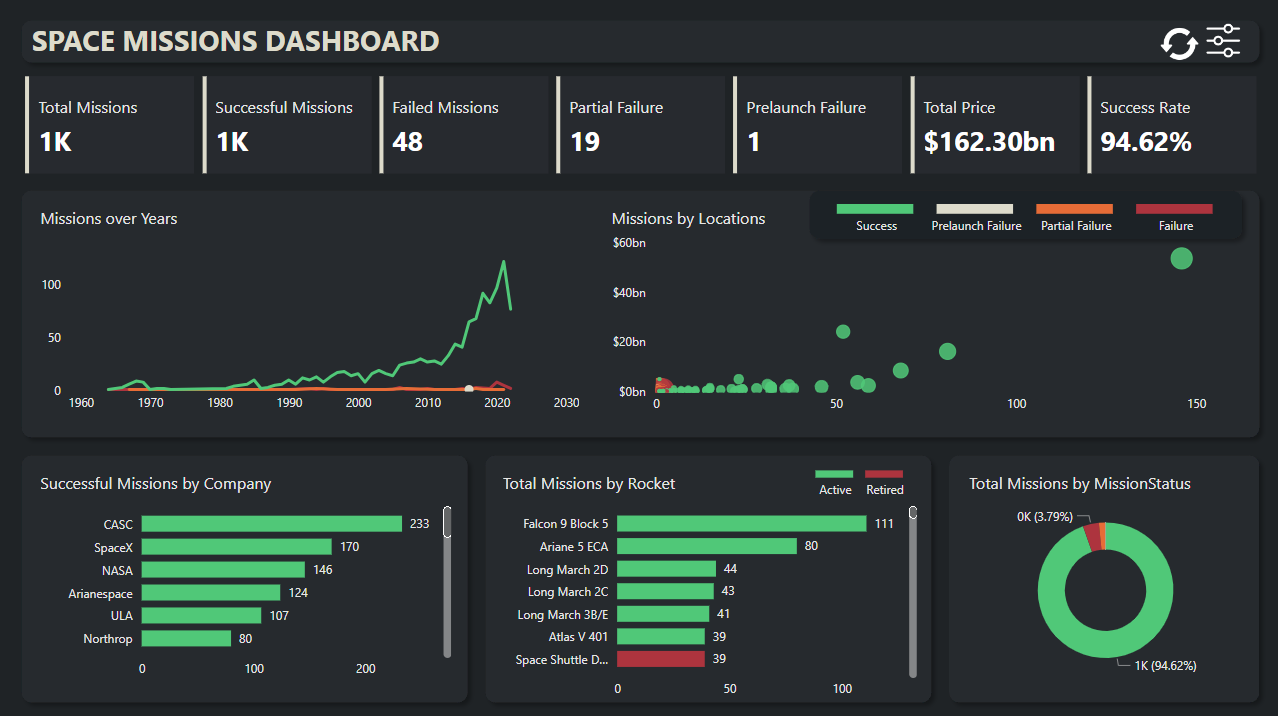

Layout of this report page (visuals, bound fields, positions):
{"tool":"powerbi","page":{"name":"Dashboard","canvas":[1280,720],"ordinal":1},"visuals":[{"type":"shape","box":[13.7,182.5,1255.6,264.8],"z":0},{"type":"shape","box":[13.7,447.3,463.8,265],"z":1000},{"type":"shape","box":[477.5,447.3,463.8,265],"z":2000},{"type":"shape","box":[941.3,447.3,328,264.8],"z":3000},{"type":"shape","box":[13.7,12.3,1255.6,60],"z":4000},{"type":"lineChart","title":"Missions over Years","fields":{"Category":["Date Table.Year"],"Y":["All Measures.Total Missions"],"Series":["Space Missions.MissionStatus"]},"box":[31.6,203.1,558.5,223.7],"z":5000},{"type":"scatterChart","title":"Missions by Locations","fields":{"X":["All Measures.Total Missions"],"Y":["All Measures.Total Price"],"Category":["Space Missions.Location"],"Series":["Space Missions.MissionStatus"],"Size":["All Measures.Successful Missions"]},"box":[602.6,202.6,650.2,224.7],"z":6000},{"type":"barChart","fields":{"Category":["Space Missions.Company"],"Y":["All Measures.Successful Missions"]},"box":[31.6,467.9,430.9,225],"z":7000},{"type":"barChart","fields":{"Category":["Space Missions.Rocket"],"Y":["All Measures.Total Missions"]},"box":[493.6,468.1,434,245.1],"z":8000},{"type":"donutChart","fields":{"Y":["All Measures.Total Missions"],"Category":["Space Missions.MissionStatus"]},"box":[960.6,467.9,292.3,225],"z":9000},{"type":"shape","box":[801.7,182.1,451.1,66.4],"z":10000},{"type":"clusteredColumnChart","fields":{"Category":["Space Missions.MissionStatus"],"Y":["All Measures.Legend"]},"box":[787.8,179.8,479,70],"z":11000},{"type":"clusteredColumnChart","fields":{"Category":["Space Missions.RocketStatus"],"Y":["All Measures.Legend"]},"box":[760.9,447.7,199.1,66.4],"z":12000},{"type":"cardVisual","fields":{"Data":["All Measures.Total Missions","All Measures.Successful Missions","All Measures.Failed Missions","All Measures.Partial Failure","All Measures.Prelaunch Failure","All Measures.Total Price","All Measures.Success Rate"]},"box":[21.7,72.4,1245,107.4],"z":13000},{"type":"image","title":"Filter Icon","box":[1196.8,20.5,56.7,43.4],"z":16000},{"type":"image","box":[1153.4,20.9,54.3,47.3],"z":16001}]}

Visuals, with their boxes in screenshot pixels (x1, y1, x2, y2), scaled from the page's 1280x720 canvas onto the 1278x716 screenshot:
shape: detection(14, 181, 1267, 445)
shape: detection(14, 445, 477, 708)
shape: detection(477, 445, 940, 708)
shape: detection(940, 445, 1267, 708)
shape: detection(14, 12, 1267, 72)
"Missions over Years" lineChart: detection(32, 202, 589, 424)
"Missions by Locations" scatterChart: detection(602, 201, 1251, 425)
barChart - Space Missions.Company x All Measures.Successful Missions: detection(32, 465, 462, 689)
barChart - Space Missions.Rocket x All Measures.Total Missions: detection(493, 465, 926, 709)
donutChart - All Measures.Total Missions x Space Missions.MissionStatus: detection(959, 465, 1251, 689)
shape: detection(800, 181, 1251, 247)
clusteredColumnChart - Space Missions.MissionStatus x All Measures.Legend: detection(787, 179, 1265, 248)
clusteredColumnChart - Space Missions.RocketStatus x All Measures.Legend: detection(760, 445, 958, 511)
cardVisual - All Measures.Total Missions x All Measures.Successful Missions: detection(22, 72, 1265, 179)
"Filter Icon" image: detection(1195, 20, 1252, 64)
image: detection(1152, 21, 1206, 68)
